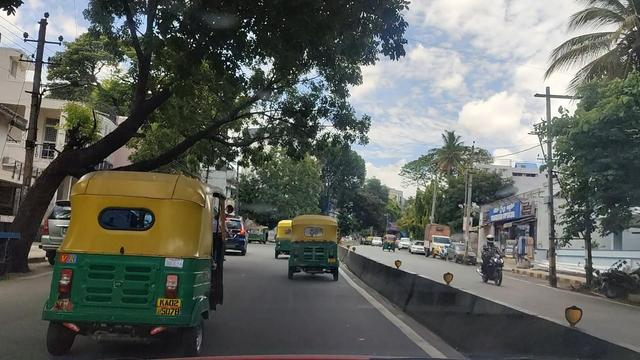LMV: (68, 181, 220, 354), (284, 218, 343, 283)
